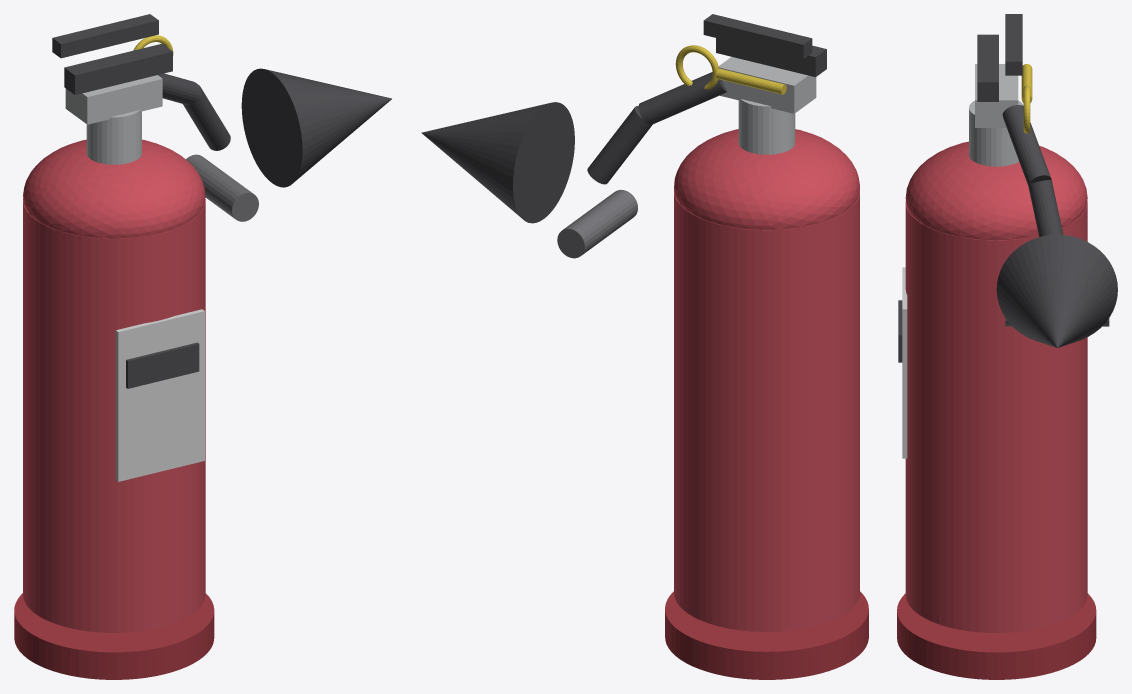
The model's file is extintor-c-co2.glb.
3 views of the same model, side by side, from view 1: azimuth 30°, elevation 25°; view 2: azimuth 150°, elevation 25°; view 3: azimuth 270°, elevation 25° (orthographic). The views are drawn at different scales.
Visible parts, largest first — view 1: C_cuerpo, C_hombro, C_etiqueta, C_trompeta, C_base, C_manija, C_valvula, C_cuello, C_palanca, C_franja, C_empunadura, C_manguera_1 (+1 smaller); view 2: C_cuerpo, C_hombro, C_trompeta, C_base, C_valvula, C_empunadura, C_cuello, C_palanca, C_manguera_0, C_manguera_1, C_manija, C_pasador (+1 smaller); view 3: C_cuerpo, C_hombro, C_trompeta, C_base, C_manguera_0, C_cuello, C_valvula, C_manija, C_manguera_1, C_palanca, C_etiqueta, C_anilla.
Part boxes in pixels (x1=…): C_cuerpo: x1=23, y1=198, x2=205, y2=632; C_hombro: x1=23, y1=139, x2=205, y2=238; C_etiqueta: x1=115, y1=309, x2=204, y2=481; C_trompeta: x1=241, y1=68, x2=391, y2=187; C_base: x1=14, y1=593, x2=214, y2=679; C_manija: x1=64, y1=43, x2=172, y2=94; C_valvula: x1=65, y1=75, x2=162, y2=124; C_cuello: x1=86, y1=110, x2=141, y2=164; C_palanca: x1=52, y1=14, x2=158, y2=58; C_franja: x1=126, y1=342, x2=199, y2=388; C_empunadura: x1=186, y1=154, x2=258, y2=221; C_manguera_1: x1=183, y1=84, x2=230, y2=150; C_cuerpo: x1=674, y1=188, x2=859, y2=631; C_hombro: x1=674, y1=129, x2=859, y2=229; C_trompeta: x1=421, y1=102, x2=574, y2=223; C_base: x1=665, y1=591, x2=868, y2=679; C_valvula: x1=718, y1=57, x2=816, y2=113; C_empunadura: x1=557, y1=189, x2=637, y2=258; C_cuello: x1=738, y1=99, x2=795, y2=154; C_palanca: x1=703, y1=14, x2=812, y2=59; C_manguera_0: x1=638, y1=72, x2=727, y2=124; C_manguera_1: x1=587, y1=106, x2=652, y2=184; C_manija: x1=716, y1=38, x2=826, y2=77; C_pasador: x1=716, y1=68, x2=786, y2=94; C_cuerpo: x1=905, y1=201, x2=1087, y2=632; C_hombro: x1=905, y1=141, x2=1087, y2=240; C_trompeta: x1=996, y1=234, x2=1117, y2=347; C_base: x1=897, y1=593, x2=1096, y2=679; C_manguera_0: x1=1002, y1=105, x2=1051, y2=185; C_cuello: x1=969, y1=100, x2=1023, y2=166; C_valvula: x1=975, y1=64, x2=1018, y2=127; C_manija: x1=977, y1=34, x2=998, y2=101; C_manguera_1: x1=1028, y1=180, x2=1063, y2=236; C_palanca: x1=1005, y1=14, x2=1022, y2=75; C_etiqueta: x1=902, y1=267, x2=907, y2=458; C_anilla: x1=1023, y1=85, x2=1030, y2=133.
Bounding box in the file's own units: 0.525 × 0.764 × 0.255.
